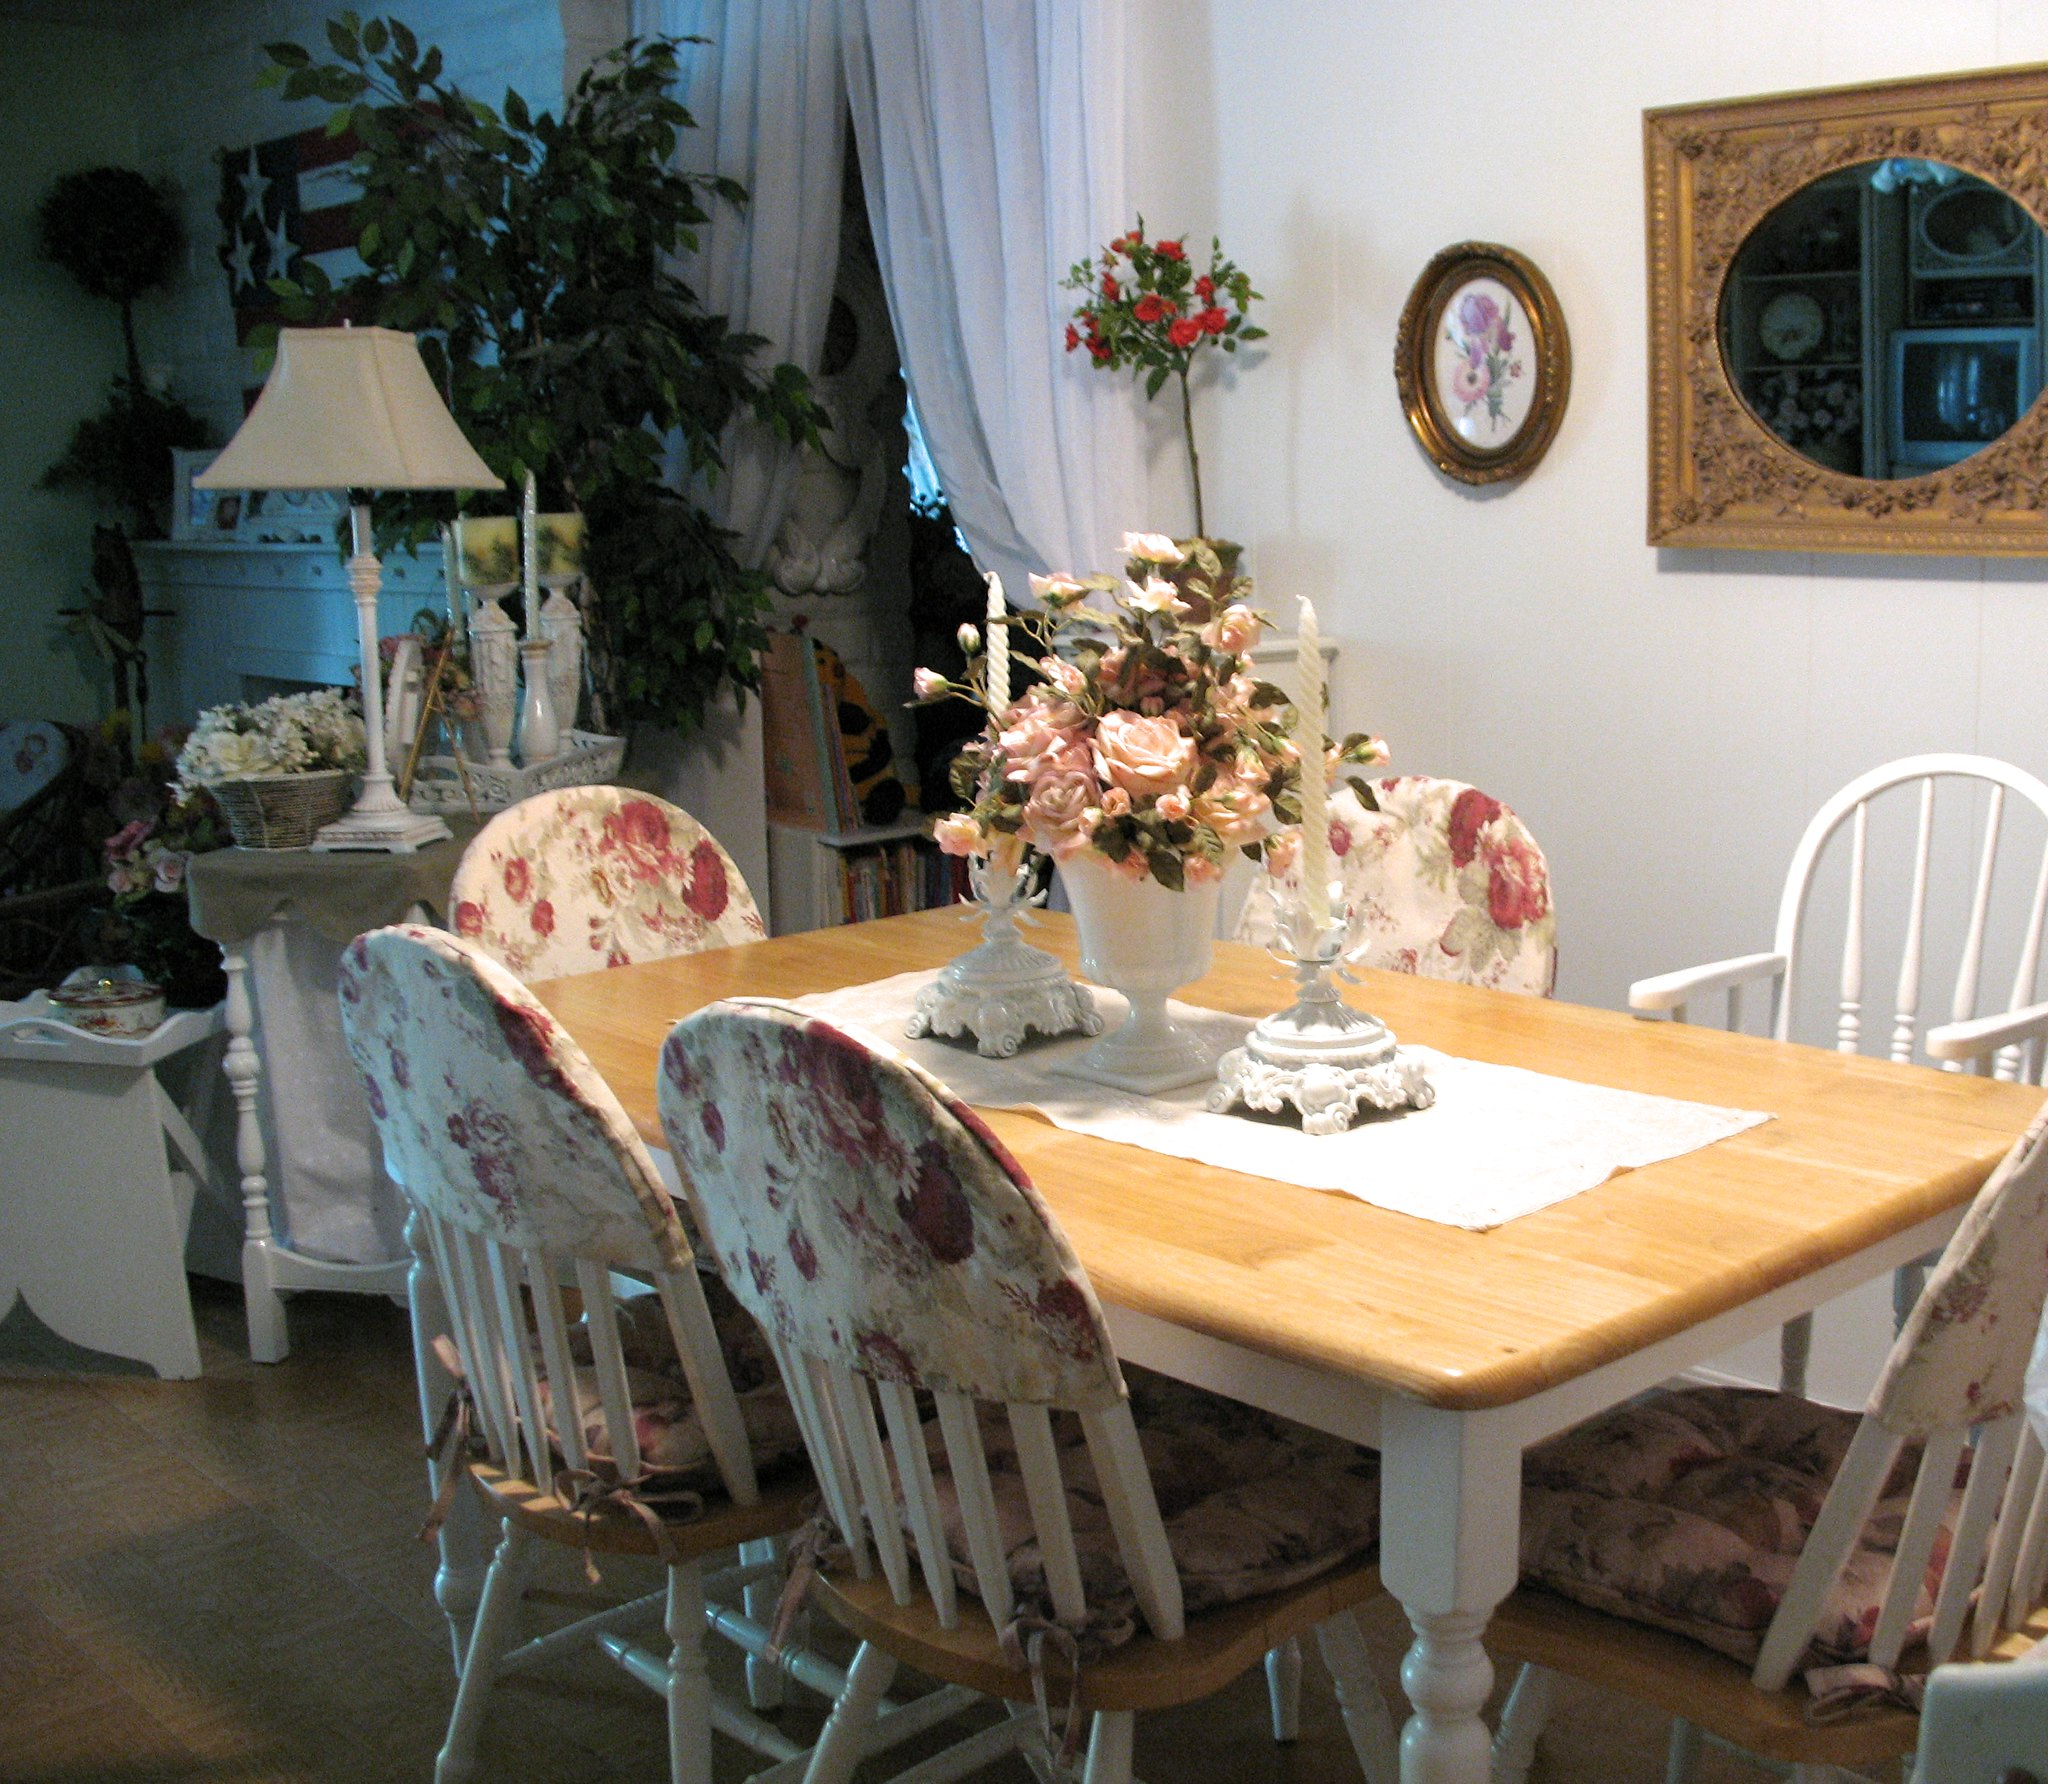dining table: (449, 876, 2045, 1784)
